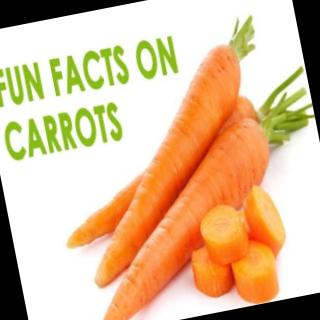Wortel: (55, 42, 278, 290), (67, 115, 298, 320)
